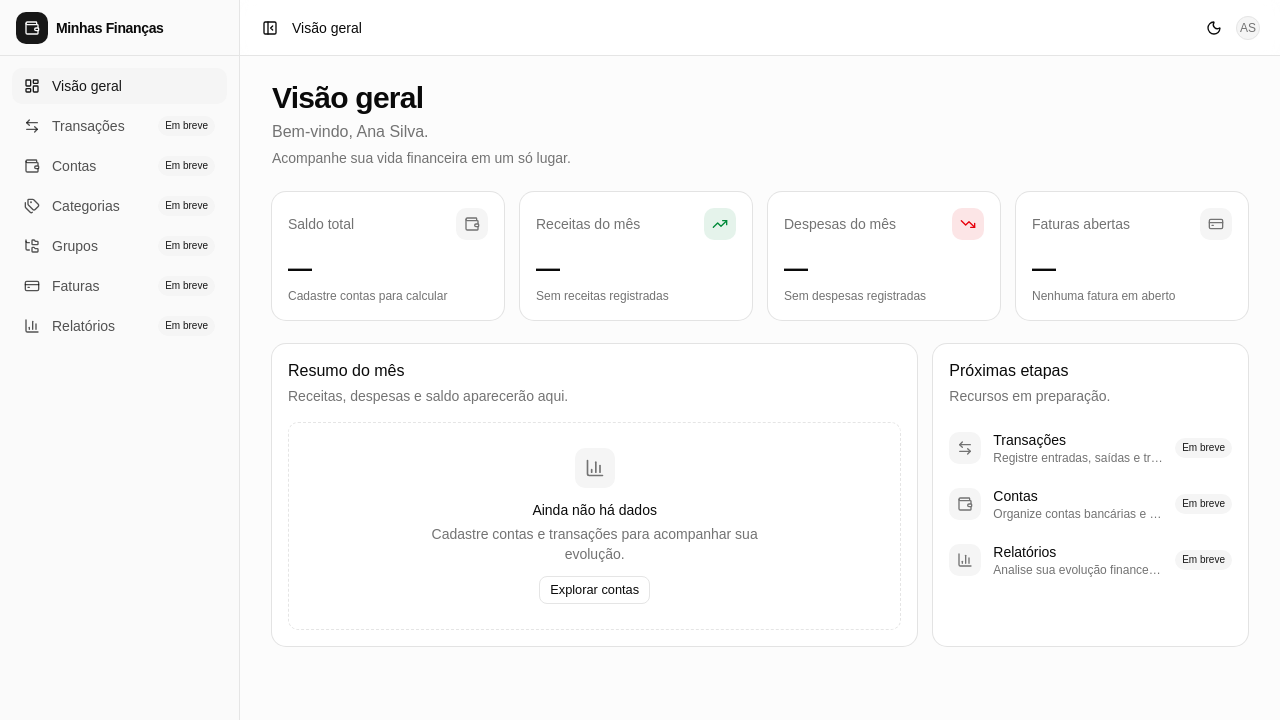
Auth flow › logs out and returns to the login page
Click the button with aria-label "Abrir menu do usuário": (1248, 28) [1232, 12, 1264, 44]
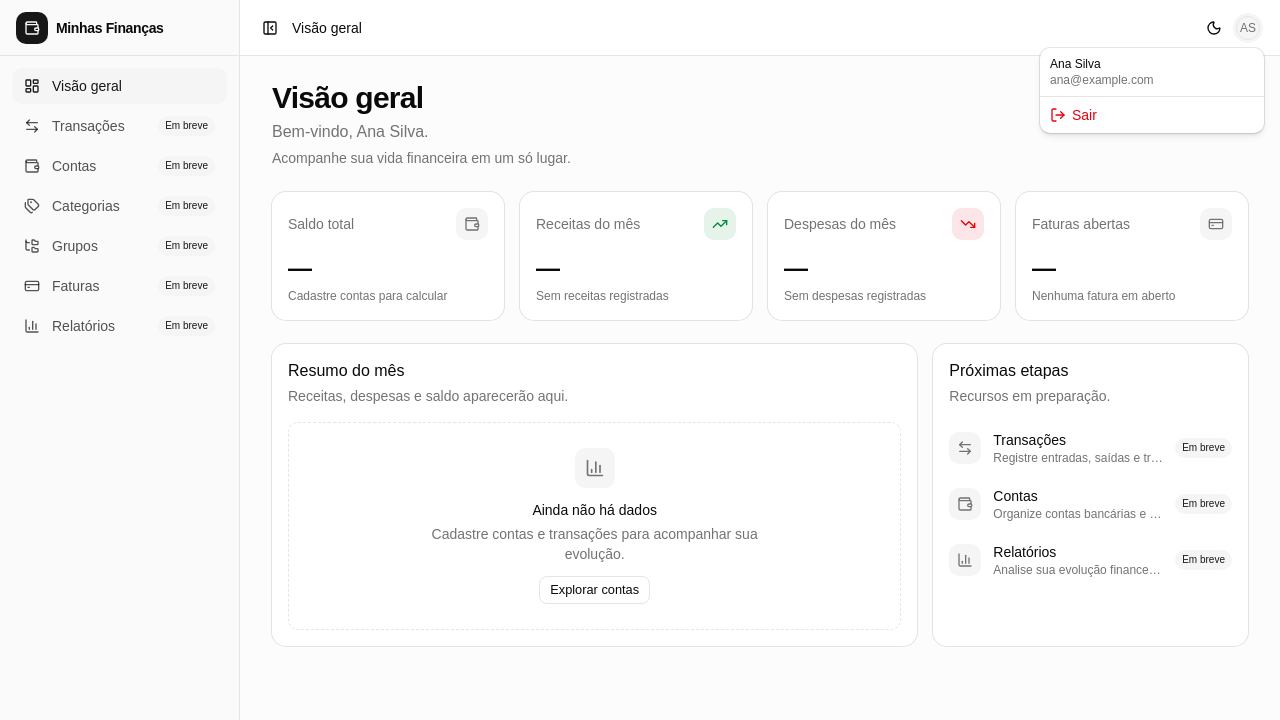
Click the menu item "Sair": (1073, 115) [1050, 107, 1097, 123]
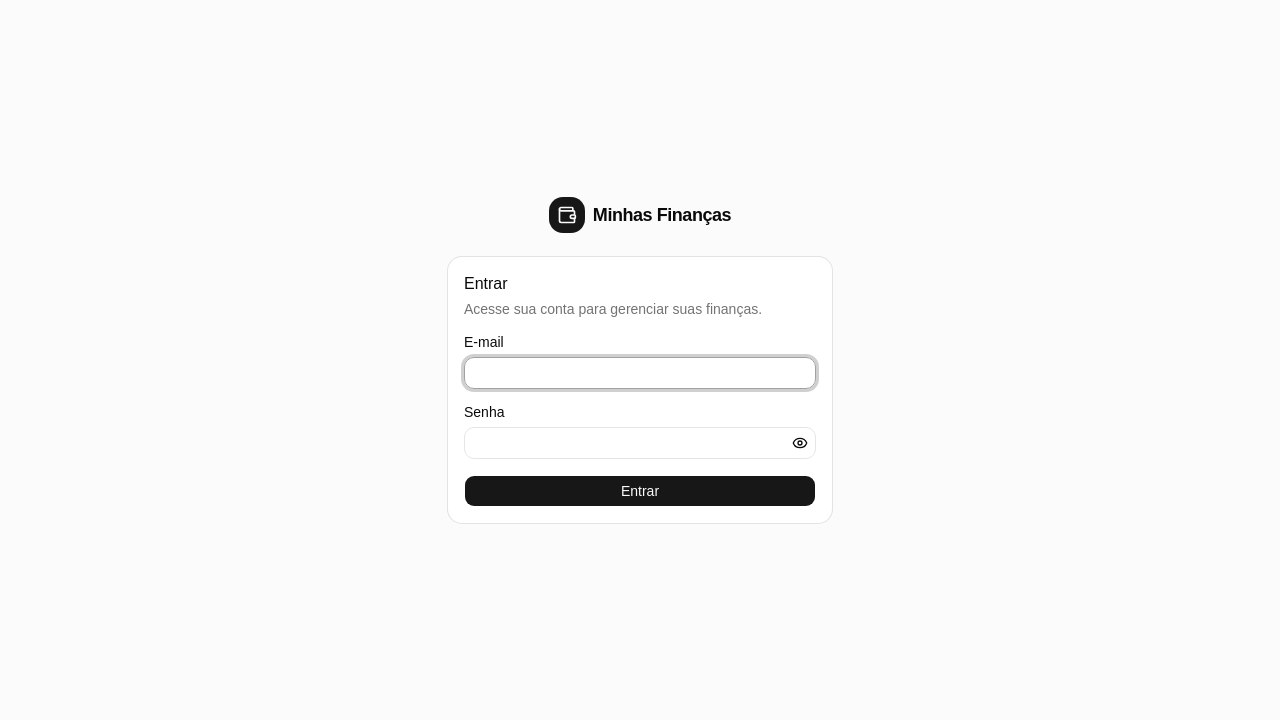
Now the heading "Entrar" is shown, box [464, 275, 508, 292]
